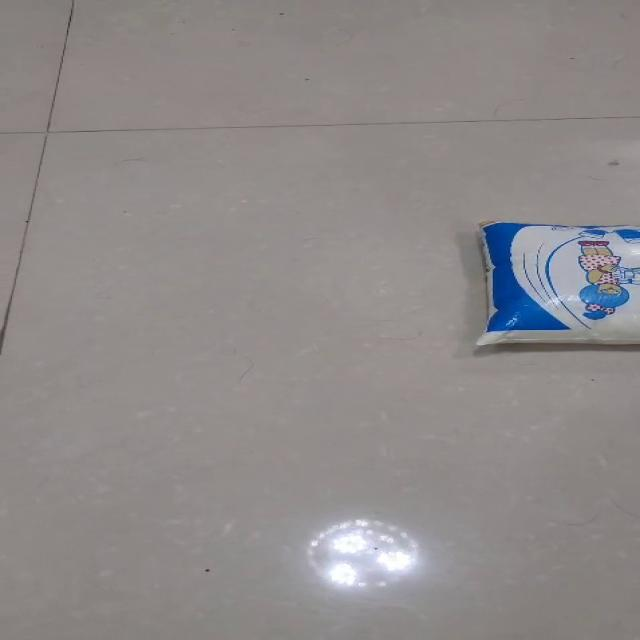plastic: (474, 218, 639, 346)
